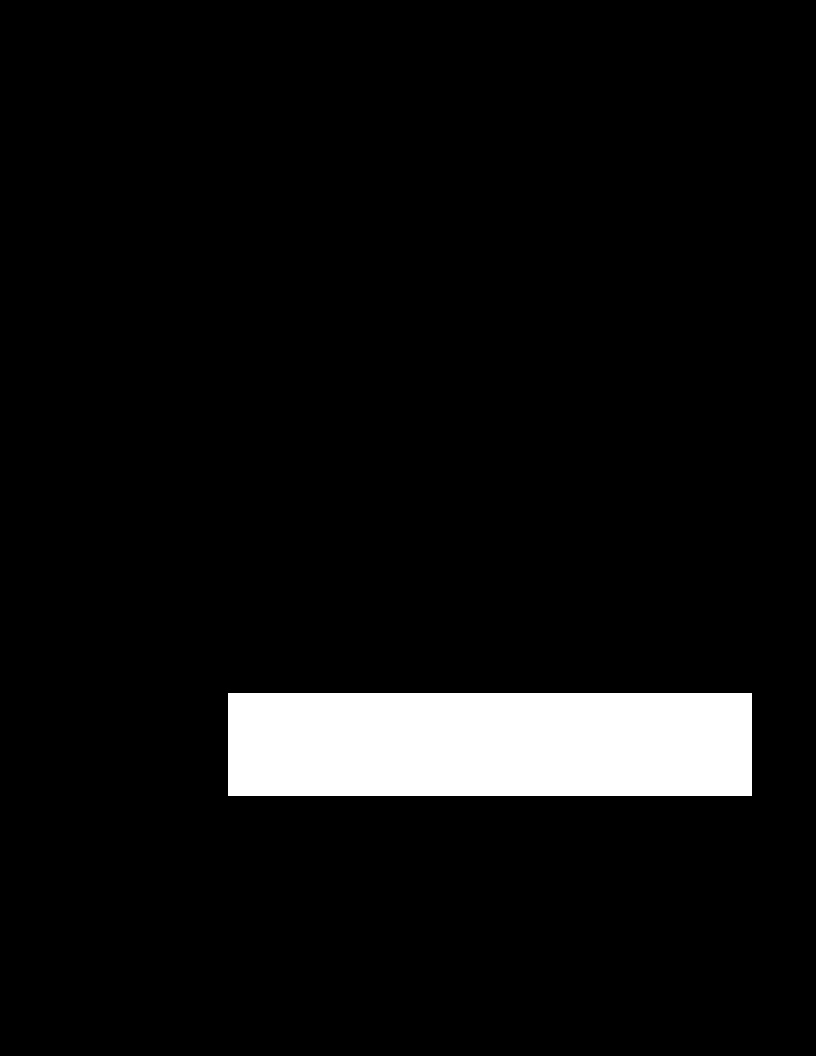table: (228, 693, 751, 795)
